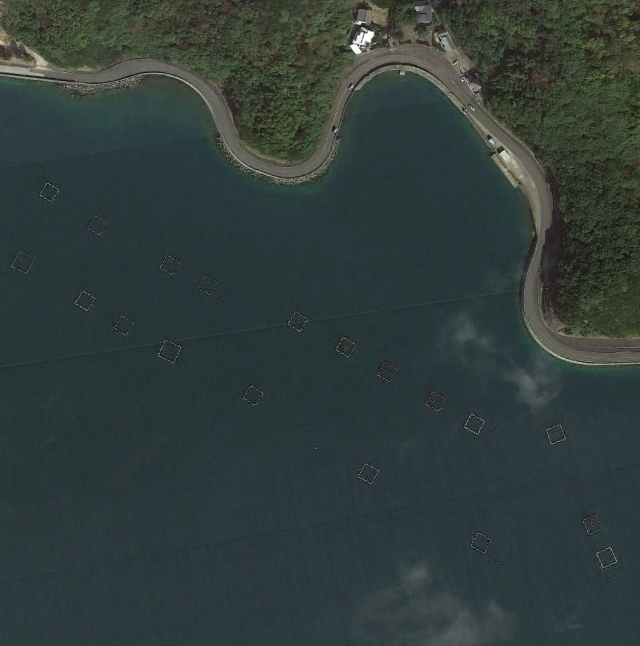house: (346, 23, 379, 54), (354, 5, 379, 27)
square: (543, 415, 574, 451), (153, 334, 185, 368), (577, 507, 608, 542), (7, 248, 39, 279), (111, 310, 142, 341), (465, 526, 495, 557), (72, 283, 99, 317), (593, 541, 623, 571), (459, 407, 489, 437), (331, 329, 359, 361), (85, 211, 115, 240), (195, 270, 223, 299), (35, 176, 61, 206), (237, 380, 264, 408), (285, 307, 314, 333), (354, 458, 381, 485), (423, 385, 449, 413), (160, 251, 184, 279), (375, 357, 399, 383)
